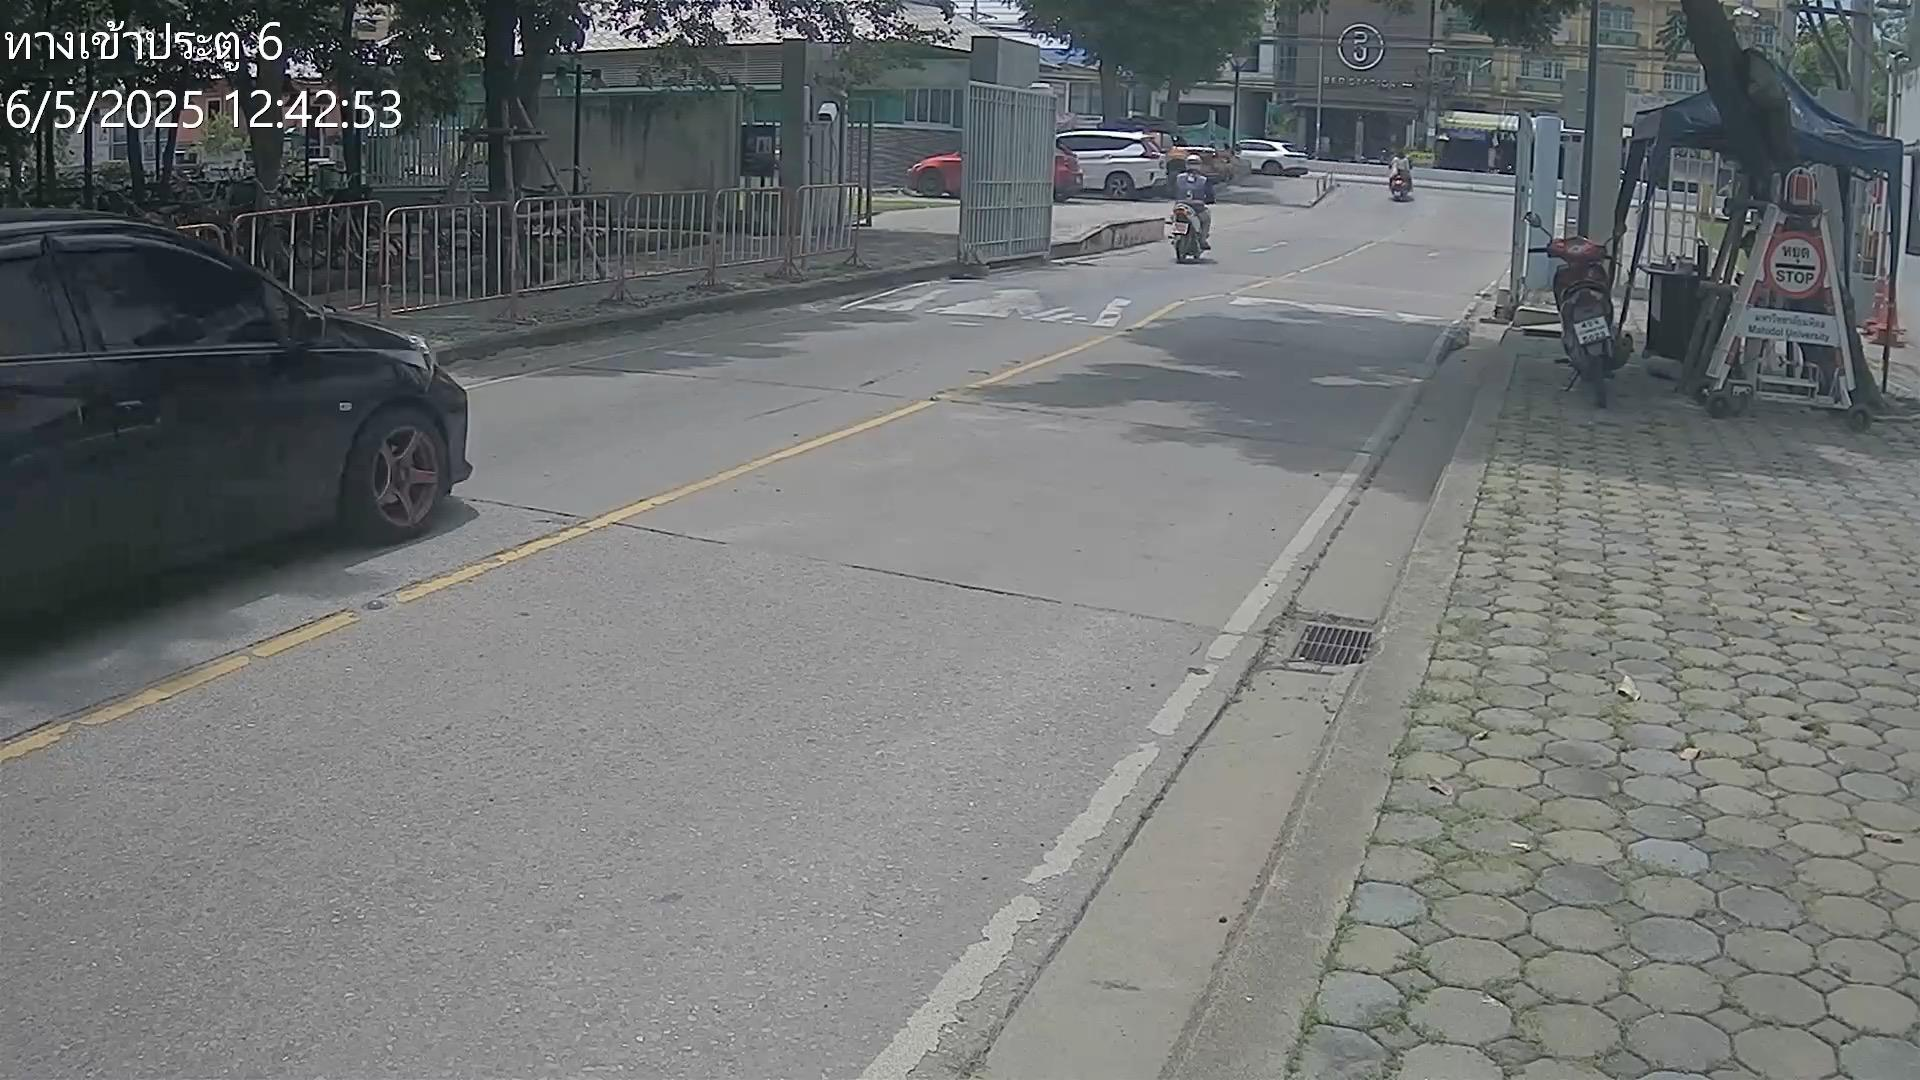With-Helmet: (1185, 153, 1203, 173)
